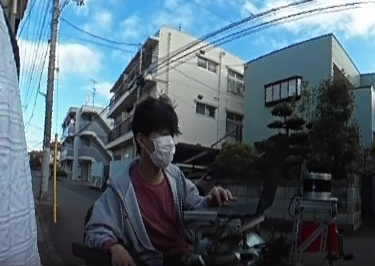person: (88, 99, 228, 266)
